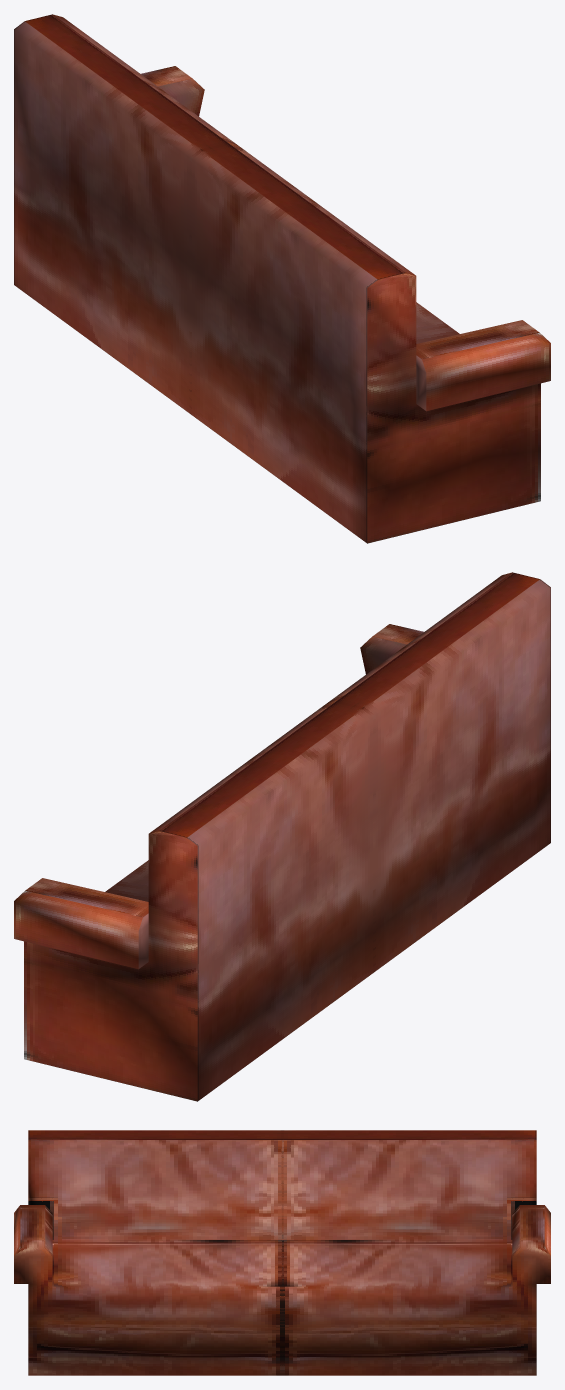
File: Couch2.glb
3 views of the same model, one above another, from view 1: azimuth 30°, elevation 25°; view 2: azimuth 150°, elevation 25°; view 3: azimuth 270°, elevation 25° (orthographic). The views are drawn at different scales.
Parts seen in each view (by area): view 1: Cube; view 2: Cube; view 3: Cube.
Boxes of the visible parts, box(x1,y1,x2,y2) form: Cube: box(14, 14, 550, 543); Cube: box(14, 572, 550, 1101); Cube: box(14, 1130, 550, 1375).
Size of the model in its own units: 1.17 by 1.68 by 4.34.
Materials: 1 (1 with a texture image).
